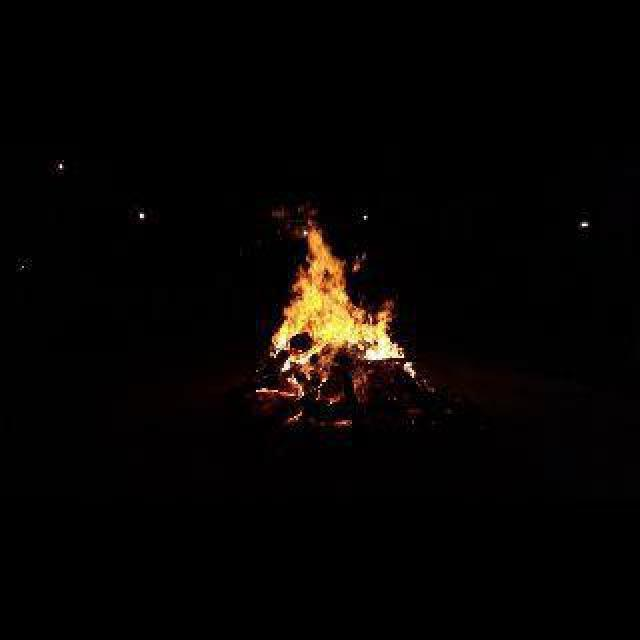Fire: (248, 200, 418, 398), (288, 408, 308, 422), (330, 420, 352, 426)
